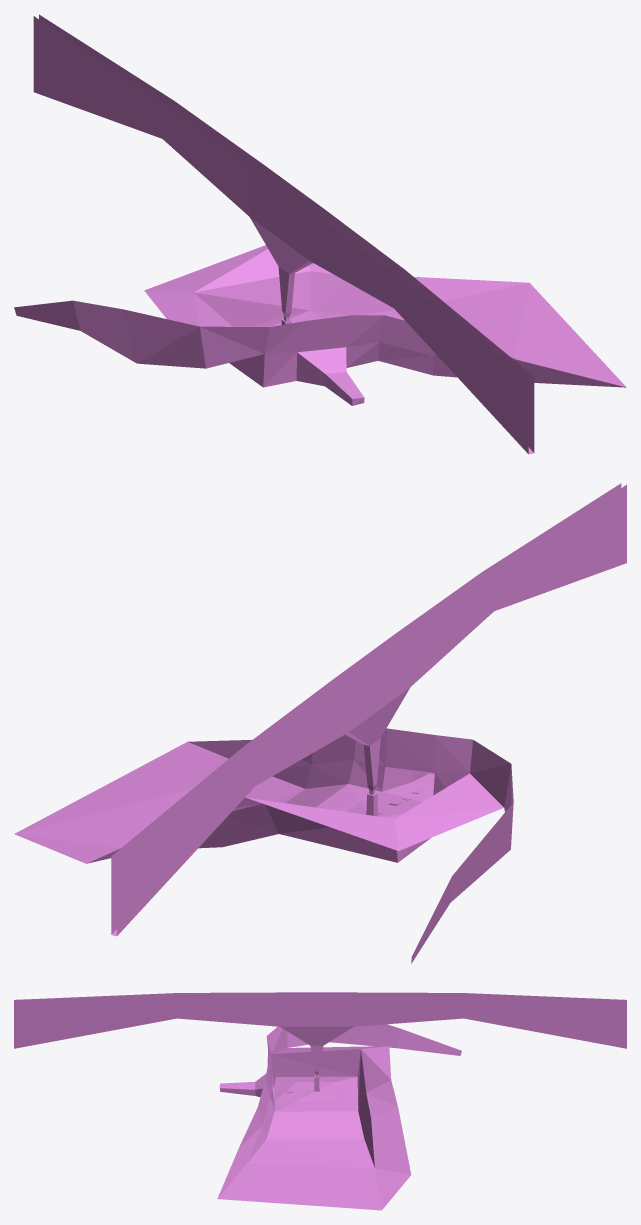
Rendered from test_room.fbx.
3 renders of one model, top to bottom at view 1: azimuth 30°, elevation 25°; view 2: azimuth 150°, elevation 25°; view 3: azimuth 270°, elevation 25°, orthographic. The views are drawn at different scales.
Parts seen in each view (by area): view 1: TestRoom; view 2: TestRoom; view 3: TestRoom.
Boxes of the visible parts, x1=… form: TestRoom: x1=14, y1=14, x2=626, y2=454; TestRoom: x1=14, y1=483, x2=626, y2=963; TestRoom: x1=14, y1=992, x2=626, y2=1210.
Bounding box in the file's own units: 122 × 52.75 × 231.
